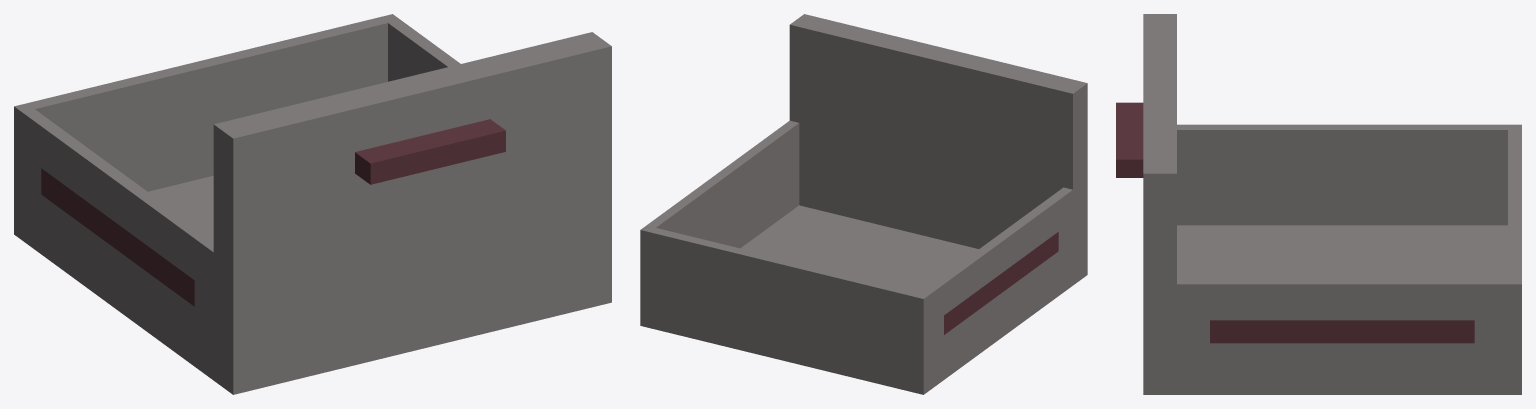
The model's file is cabinet-kitchen-drawer.fbx.
3 views of the same model, side by side, from view 1: azimuth 30°, elevation 25°; view 2: azimuth 150°, elevation 25°; view 3: azimuth 270°, elevation 25° (orthographic). The views are drawn at different scales.
Parts seen in each view (by area): view 1: cabinet-kitchen-drawer; view 2: cabinet-kitchen-drawer; view 3: cabinet-kitchen-drawer.
Boxes of the visible parts, box(x1,y1,x2,y2) form: cabinet-kitchen-drawer: box(14, 14, 611, 394); cabinet-kitchen-drawer: box(640, 14, 1087, 394); cabinet-kitchen-drawer: box(1116, 14, 1521, 394).
Size of the model in its own units: 0.5589 by 0.3615 by 0.6004.
